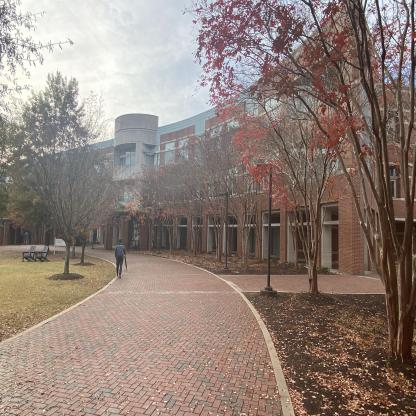EB-1: (28, 72, 392, 270)
